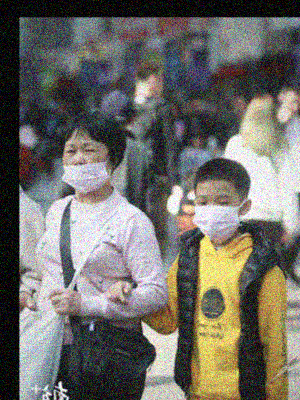with_mask: (60, 137, 113, 195), (193, 191, 240, 243)
